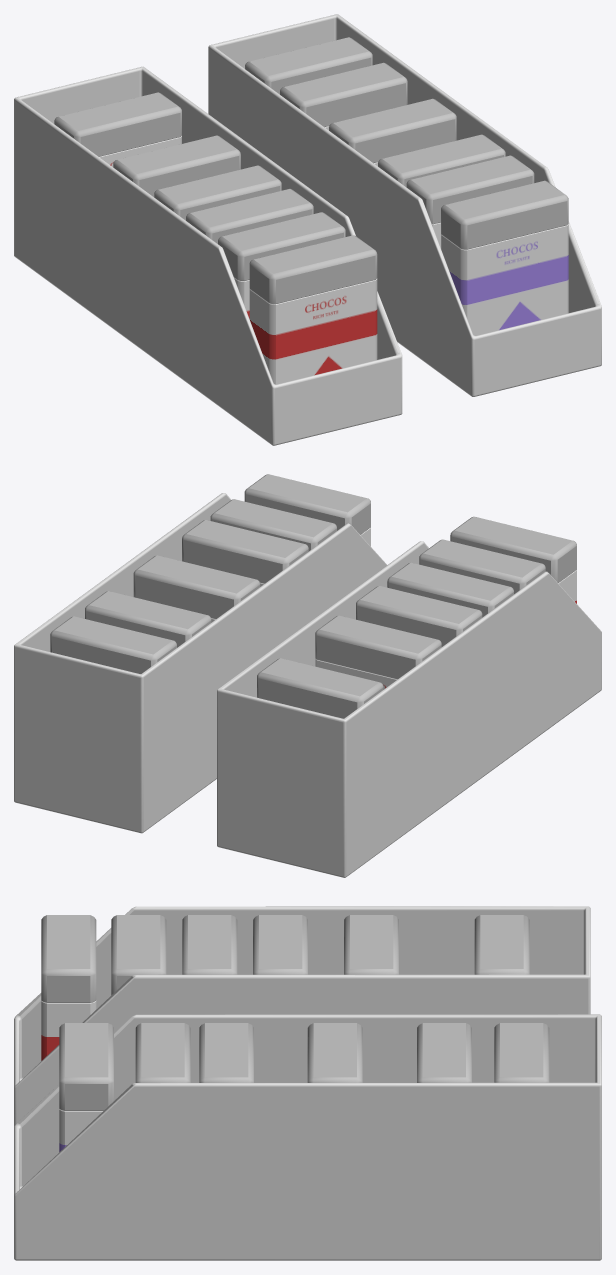
Rendered from cgt_Accessory_106_001.glb.
3 views of the same model, one above another, from view 1: azimuth 30°, elevation 25°; view 2: azimuth 150°, elevation 25°; view 3: azimuth 270°, elevation 25° (orthographic). The views are drawn at different scales.
Parts seen in each view (by area): view 1: cgt_Accessory_106_001; view 2: cgt_Accessory_106_001; view 3: cgt_Accessory_106_001.
Boxes of the visible parts, x1,y1,x2,y2 form: cgt_Accessory_106_001: [14, 14, 601, 445]; cgt_Accessory_106_001: [14, 474, 601, 877]; cgt_Accessory_106_001: [14, 906, 601, 1260].
Size of the model in its own units: 0.1898 by 0.0876 by 0.2638.
Materials: 4 (2 with a texture image).
